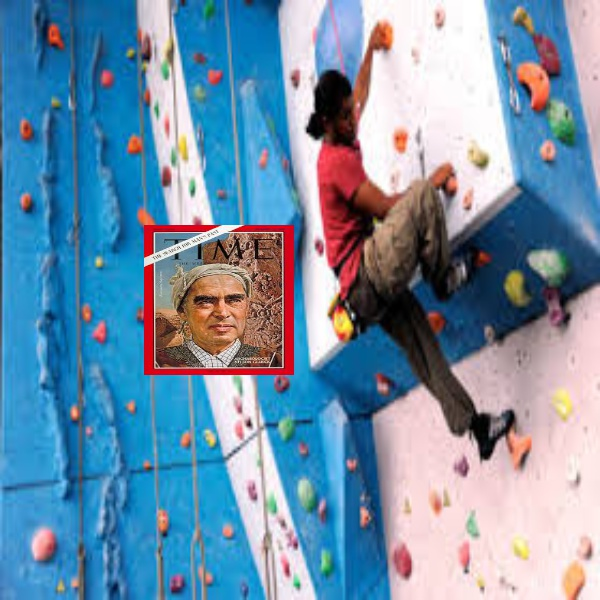time_cover: (135, 209, 299, 373)
